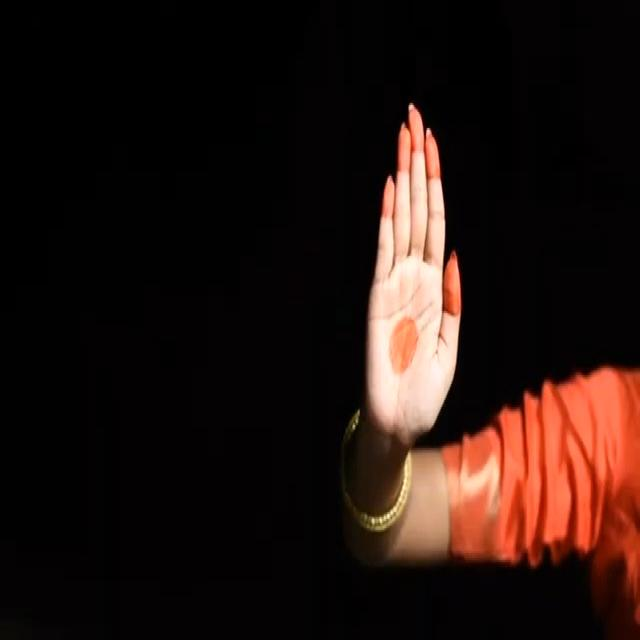Pataka: (319, 65, 493, 555)
bangle: (334, 422, 414, 542)
